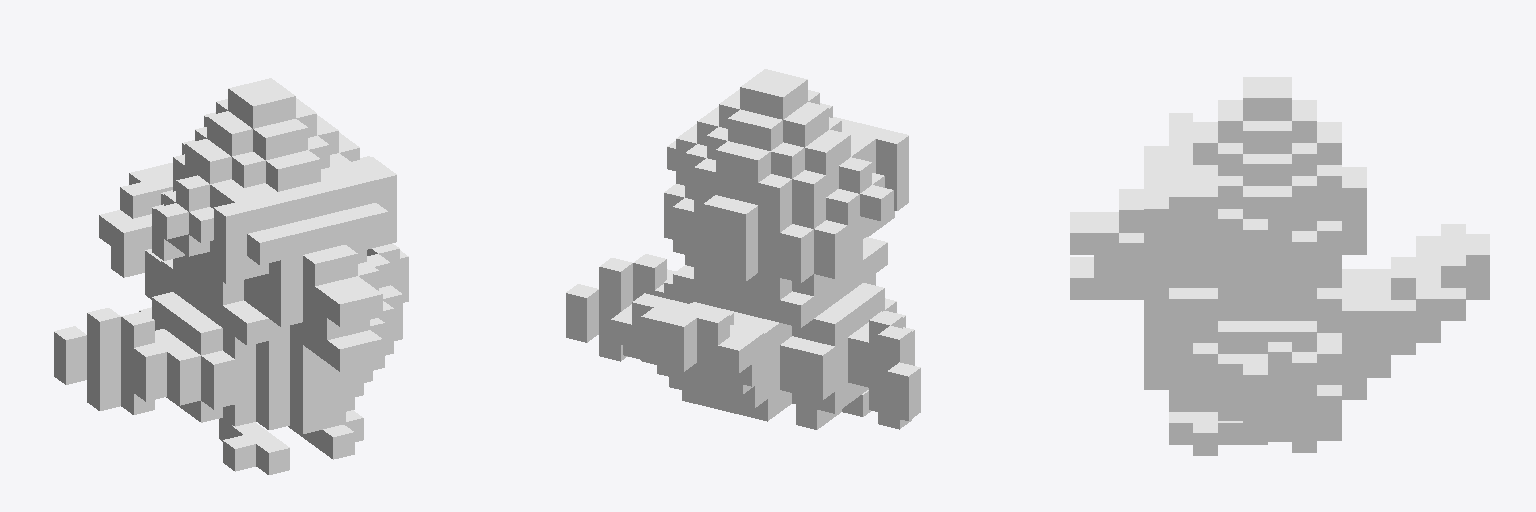
The model's file is tinybird2.obj.
The picture shows the model from 3 angles: view 1: azimuth 30°, elevation 25°; view 2: azimuth 150°, elevation 25°; view 3: azimuth 270°, elevation 25°; orthographic projection.
Parts seen in each view (by area): view 1: object 1; view 2: object 1; view 3: object 1.
Part boxes in pixels (x1,y1,x2,y2): object 1: (54, 78, 408, 474); object 1: (566, 69, 920, 429); object 1: (1070, 77, 1489, 455).
Size of the model in its own units: 1.6 by 1.5 by 1.7.